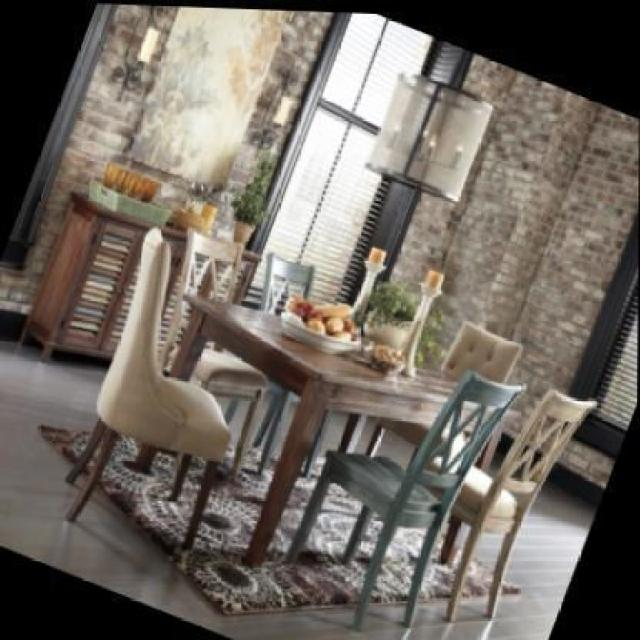tables: (169, 290, 523, 568)
